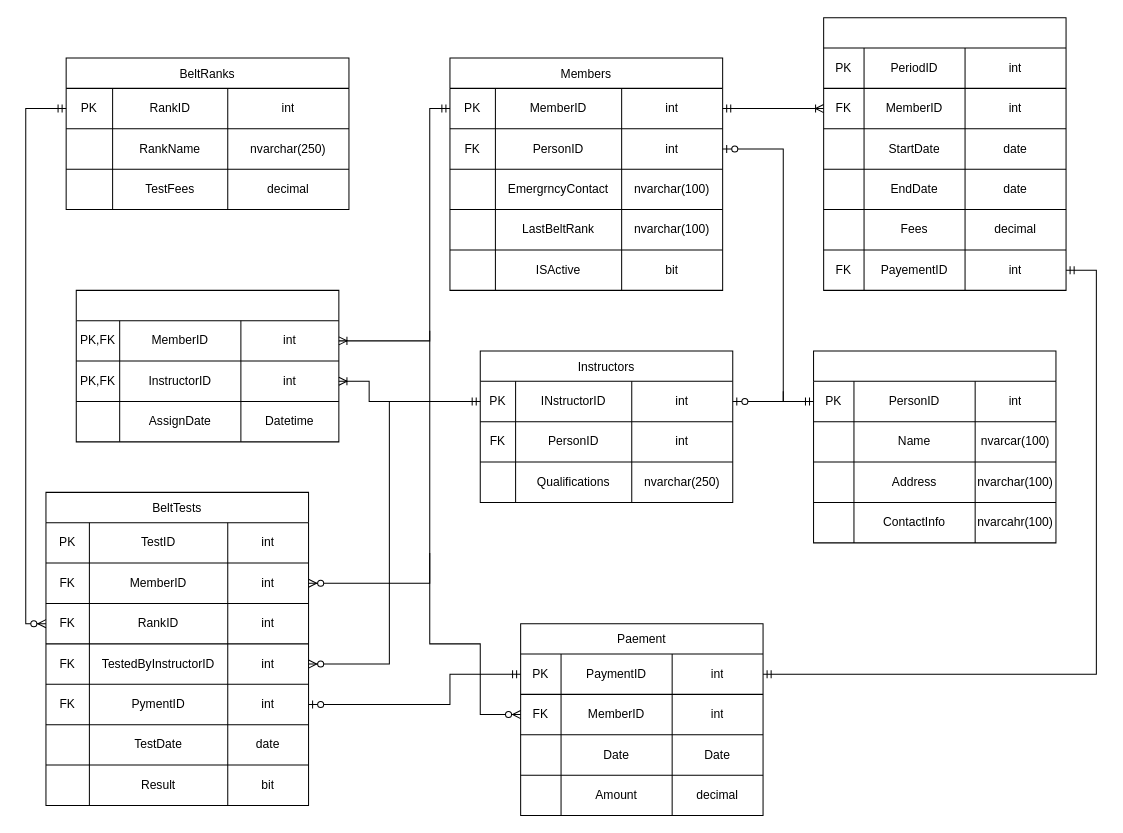
Some shapes in this 1123 by 833 pixel diagram are drawn without their labels. The shapes that lost their labels are listed below. From the top down, each one's box as (x1, y1, x2, y2) in pixels, then its label:
(823, 17, 1066, 290): MembershipPeriod
(75, 289, 339, 442): MemberINstructor
(813, 350, 1056, 543): Persons
